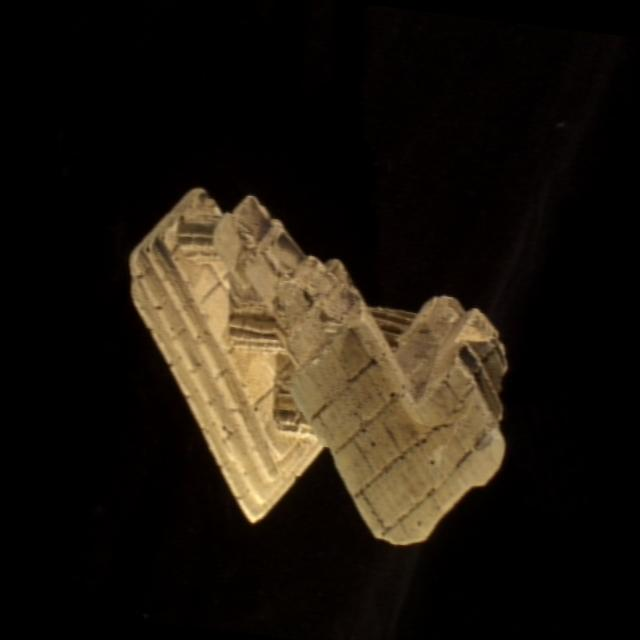Instance-Segmentation: (130, 190, 504, 542)
